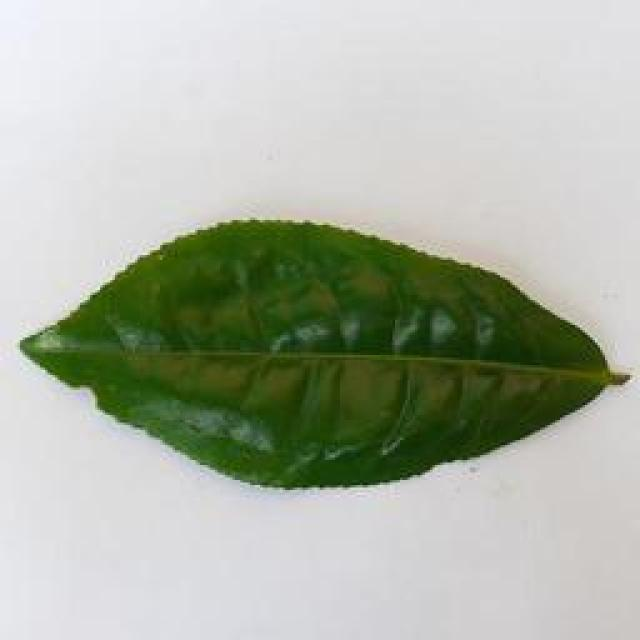Healthy: (0, 210, 626, 515)
